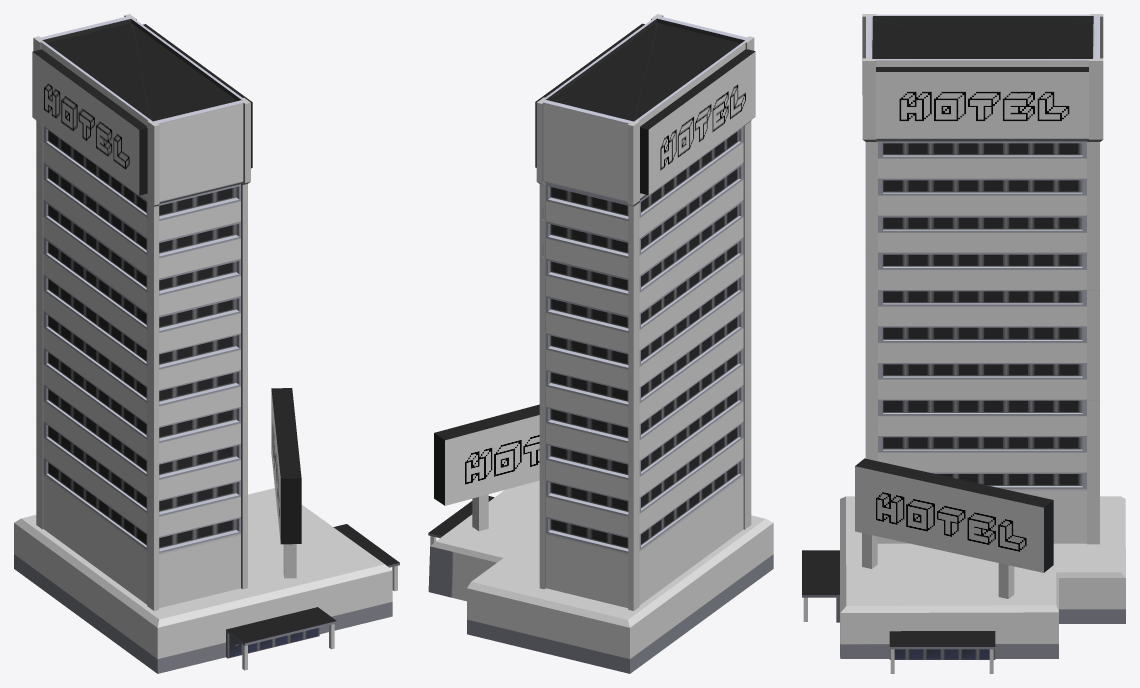
Rendered from hotel_2.glb.
The picture shows the model from 3 angles, left to right: view 1: azimuth 30°, elevation 25°; view 2: azimuth 150°, elevation 25°; view 3: azimuth 270°, elevation 25°; orthographic projection.
Visible parts, largest first — view 1: Hotel; view 2: Hotel; view 3: Hotel.
Part boxes in pixels (<box>): Hotel: <box>14,14,399,673</box>; Hotel: <box>428,14,773,673</box>; Hotel: <box>802,14,1125,673</box>.
Size of the model in its own units: 1.1 by 2.11 by 1.16.
Materials: 1 (1 with a texture image).
